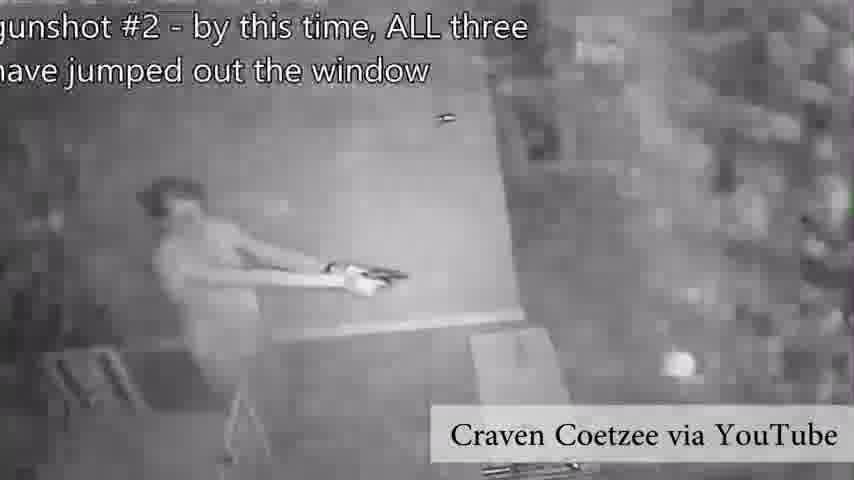person: (137, 158, 263, 436)
pistol: (363, 266, 402, 285)
pistol in hand: (249, 228, 422, 300)
